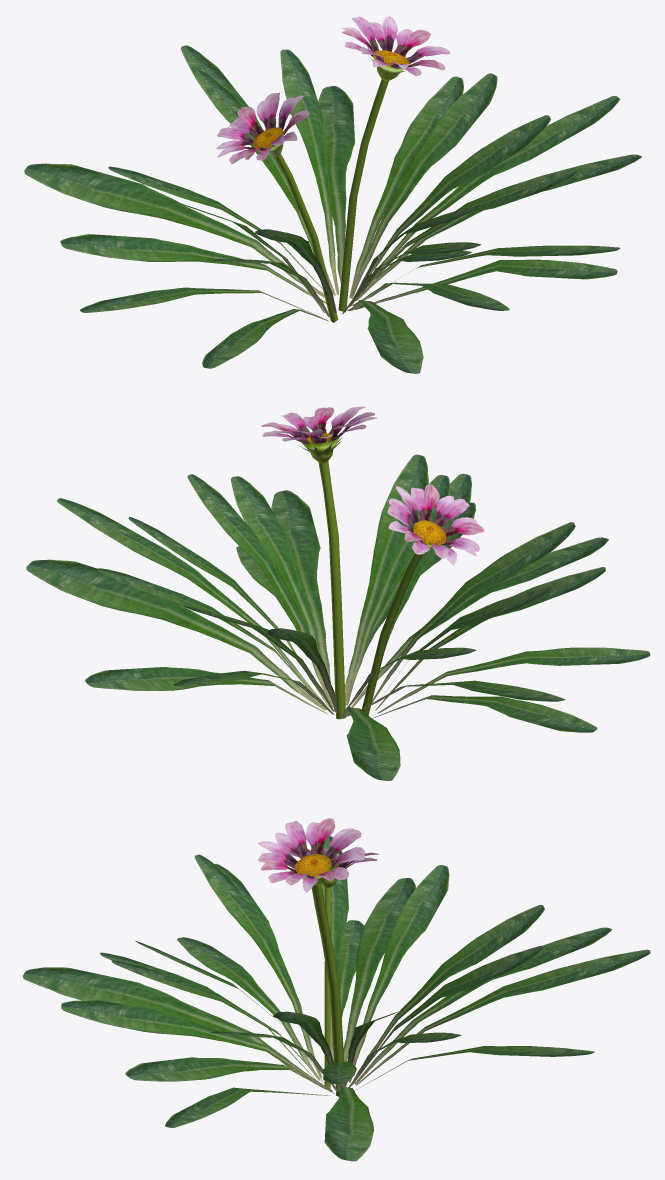
Rendered from Gazania1B-bloomer.fbx.
The picture shows the model from 3 angles, top to bottom: view 1: azimuth 30°, elevation 25°; view 2: azimuth 150°, elevation 25°; view 3: azimuth 270°, elevation 25°; orthographic projection. The views are drawn at different scales.
Parts seen in each view (by area): view 1: Gazania1B-bloomer; view 2: Gazania1B-bloomer; view 3: Gazania1B-bloomer.
Boxes of the visible parts, x1=… form: Gazania1B-bloomer: x1=24, y1=16, x2=641, y2=373; Gazania1B-bloomer: x1=26, y1=406, x2=650, y2=780; Gazania1B-bloomer: x1=22, y1=818, x2=650, y2=1161.
Size of the model in its own units: 103 by 50.81 by 105.
